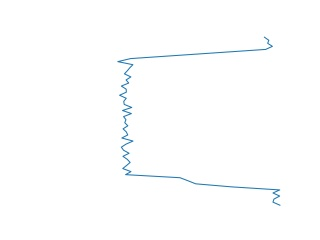distributaryChannelFill: (114, 36, 287, 205)
